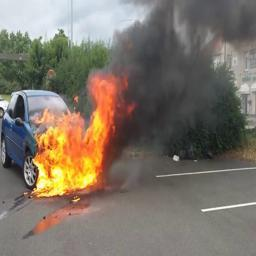fire: (31, 73, 137, 198)
